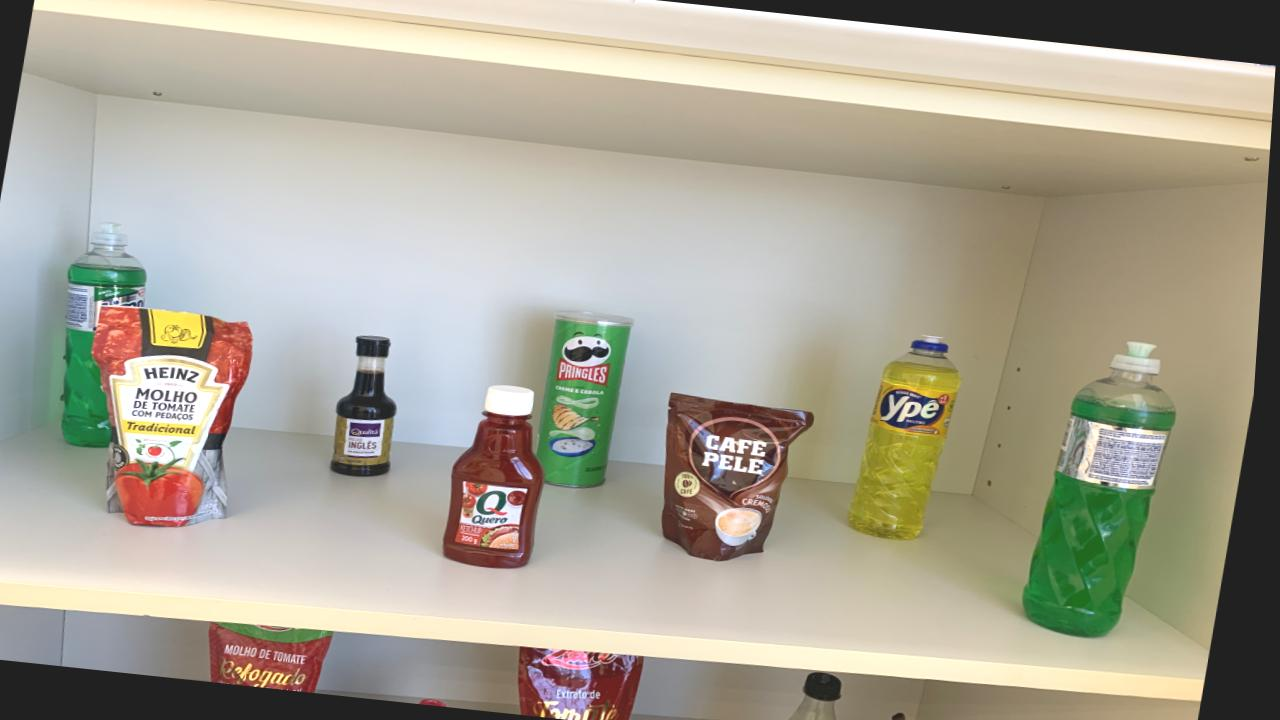Coffee-Pantry_Items: (669, 395, 820, 563)
Detergent-Cleanup_Items: (1029, 345, 1182, 640), (853, 336, 969, 543), (59, 223, 150, 451)
English_Sauce-Pantry_Items: (332, 337, 406, 480)
Ketchup-Pantry_Items: (447, 387, 550, 571)
Pringles-Snacks: (542, 318, 638, 491)
Tomato_Sauce-Pantry_Items: (103, 305, 258, 528), (215, 623, 346, 693), (526, 649, 654, 720)
